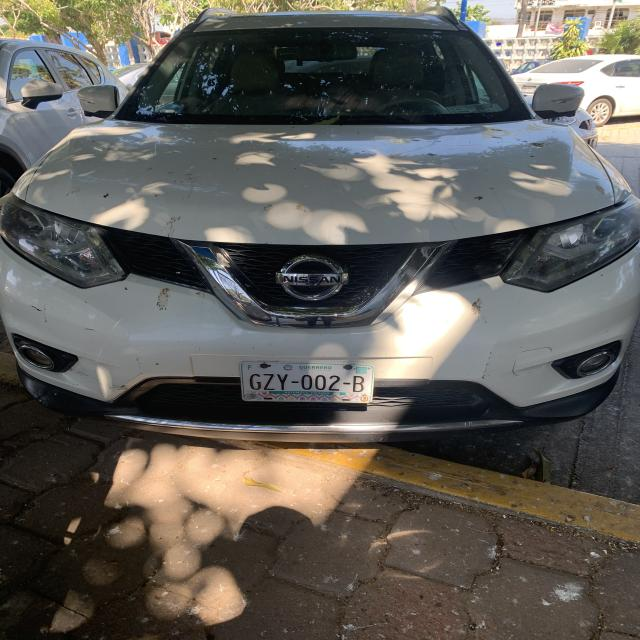placa: (240, 368, 370, 396)
